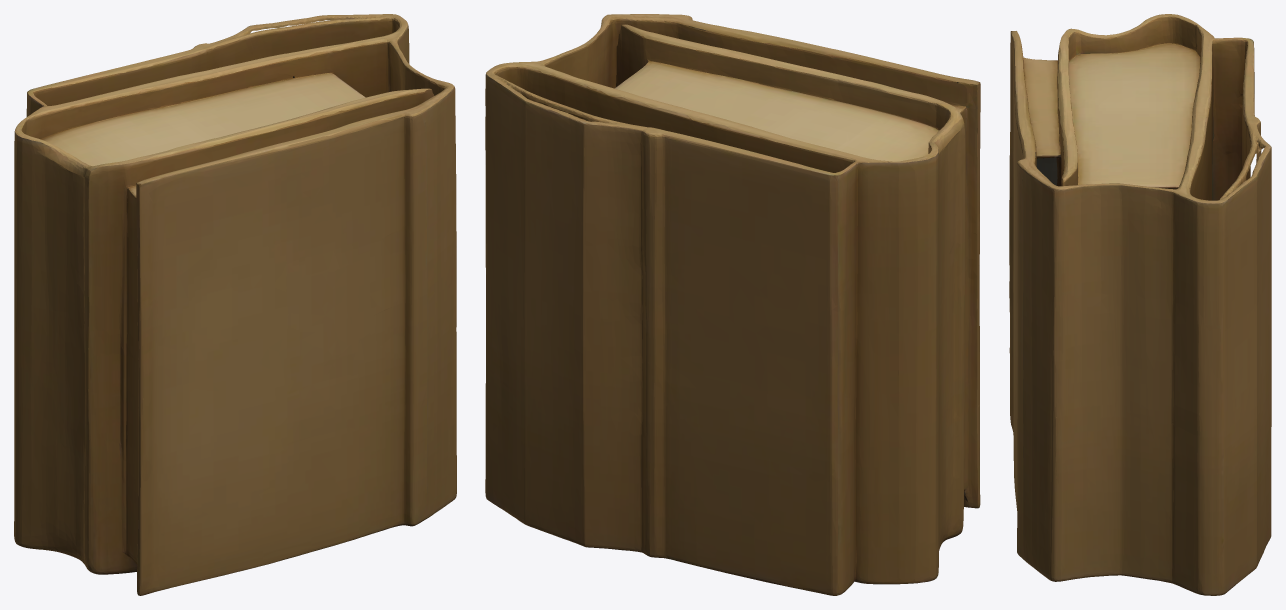
3 views of the same model, side by side, from view 1: azimuth 30°, elevation 25°; view 2: azimuth 150°, elevation 25°; view 3: azimuth 270°, elevation 25° (orthographic). The views are drawn at different scales.
Visible parts, largest first — view 1: geometry_0; view 2: geometry_0; view 3: geometry_0.
Boxes of the visible parts, bbox=[...] form: geometry_0: bbox=[14, 14, 456, 595]; geometry_0: bbox=[485, 14, 980, 595]; geometry_0: bbox=[1009, 14, 1271, 595].
Bounding box in the file's own units: 0.997 × 0.9636 × 0.5788.
Materials: 1 (1 with a texture image).
